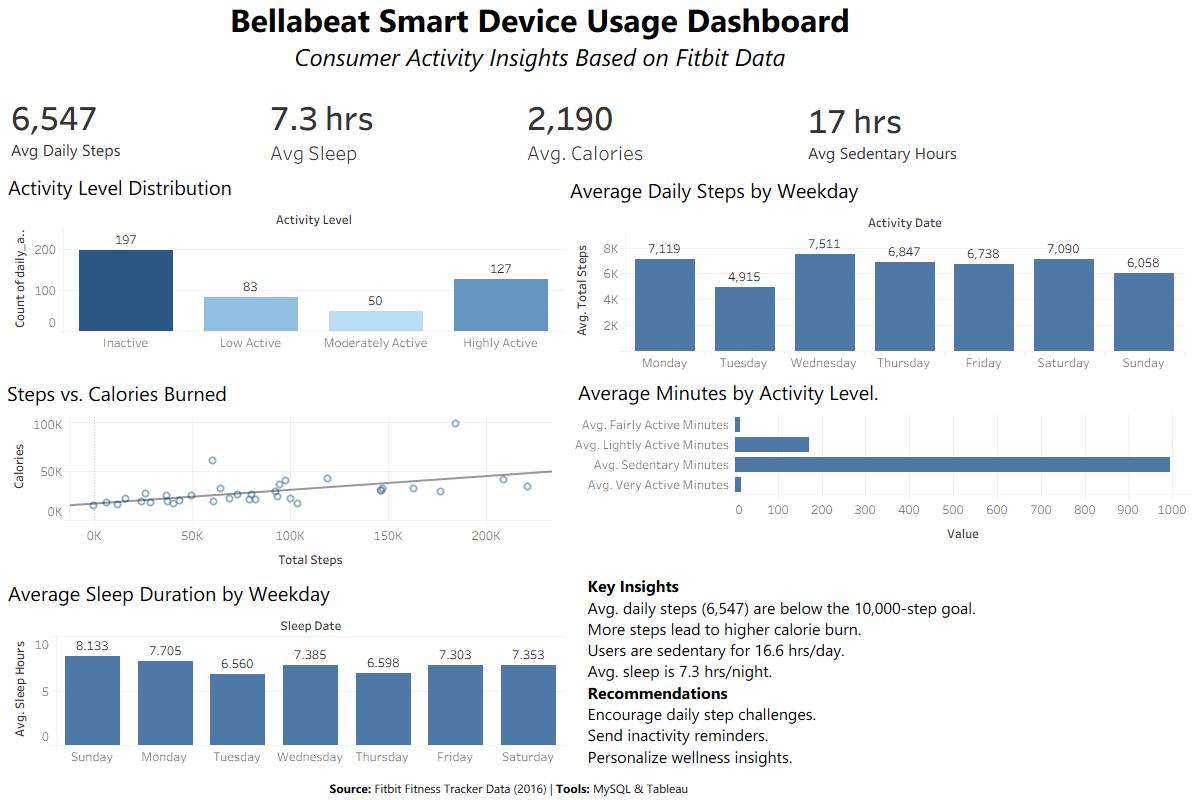

What the dashboard file says about the page in this screenshot:
{"tool":"tableau","page":{"name":"Dashboard 1","canvas":[1200,800],"ordinal":0},"visuals":[{"type":"worksheet","title":"Avg Steps","mark":"Automatic","box":[7,81,151,108]},{"type":"worksheet","title":"Avg Sleep","mark":"Automatic","box":[266,81,206,88]},{"type":"worksheet","title":"Avg Calories","mark":"Automatic","box":[523,81,245,95]},{"type":"worksheet","title":"Avg Sedentary","mark":"Automatic","box":[804,84,196,85]},{"type":"worksheet","title":"Activity Level Distribution","mark":"Bar","rows":["daily_activity_88D7275A14AC49C08EA11511A1A3A1AF"],"cols":["Calculation_0781501437501441"],"box":[4,167,560,204]},{"type":"worksheet","title":"Average Steps by Weekday","mark":"Bar","rows":["TotalSteps"],"cols":["ActivityDate"],"box":[566,170,618,200]},{"type":"worksheet","title":"Daily Activity Breakdown","mark":"Automatic","box":[574,372,618,212]},{"type":"worksheet","title":"Steps and Calories Burned","mark":"Automatic","rows":["Calories"],"cols":["TotalSteps"],"box":[3,373,549,202]},{"type":"text","box":[566,561,633,212]},{"type":"worksheet","title":"Average Sleep Duration","mark":"Bar","rows":["Calculation_0781501440720898"],"cols":["sleep_date"],"box":[4,573,561,193]},{"type":"text","box":[327,772,362,32]}]}

Visuals, with their boxes in screenshot pixels (x1, y1, x2, y2), scaled from the page's 1200x800 canvas onto the 1200x800 screenshot:
"Avg Steps" worksheet: 7/81/158/189
"Avg Sleep" worksheet: 266/81/472/169
"Avg Calories" worksheet: 523/81/768/176
"Avg Sedentary" worksheet: 804/84/1000/169
"Activity Level Distribution" worksheet (Bar marks): 4/167/564/371
"Average Steps by Weekday" worksheet (Bar marks): 566/170/1184/370
"Daily Activity Breakdown" worksheet: 574/372/1192/584
"Steps and Calories Burned" worksheet: 3/373/552/575
text: 566/561/1199/773
"Average Sleep Duration" worksheet (Bar marks): 4/573/565/766
text: 327/772/689/799
